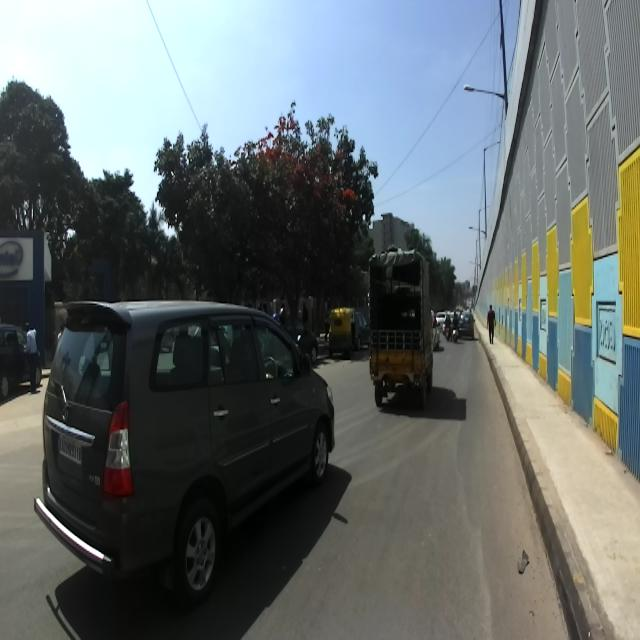car ahead at: (31, 290, 340, 616), (364, 242, 434, 406)
